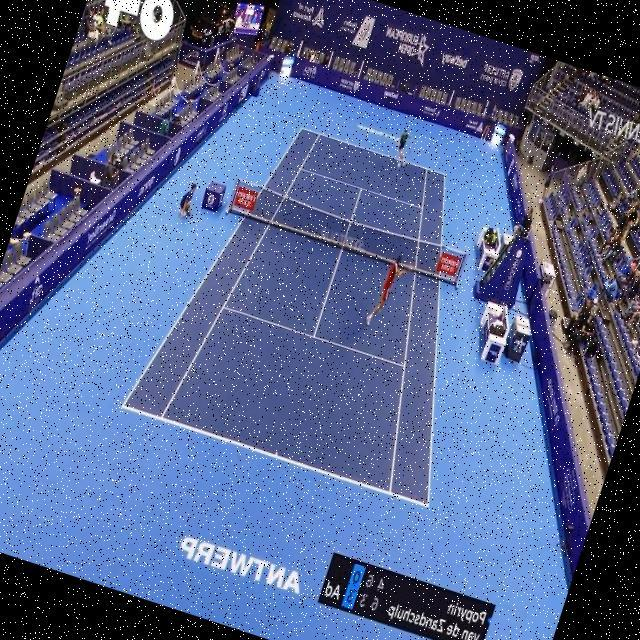court: (120, 100, 529, 509)
net: (226, 177, 470, 286)
player: (363, 252, 416, 334)
